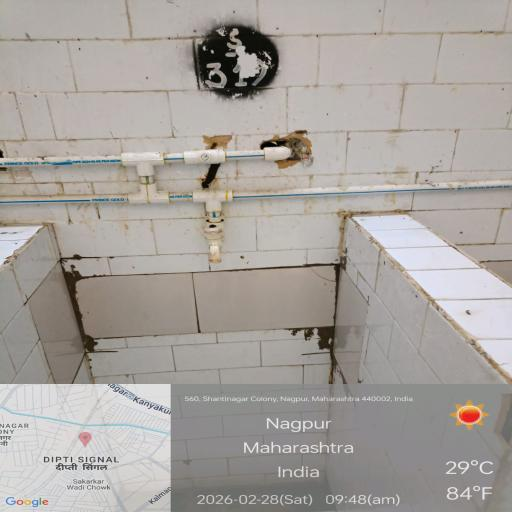partial_dirty_floor: (40, 18, 466, 489)
